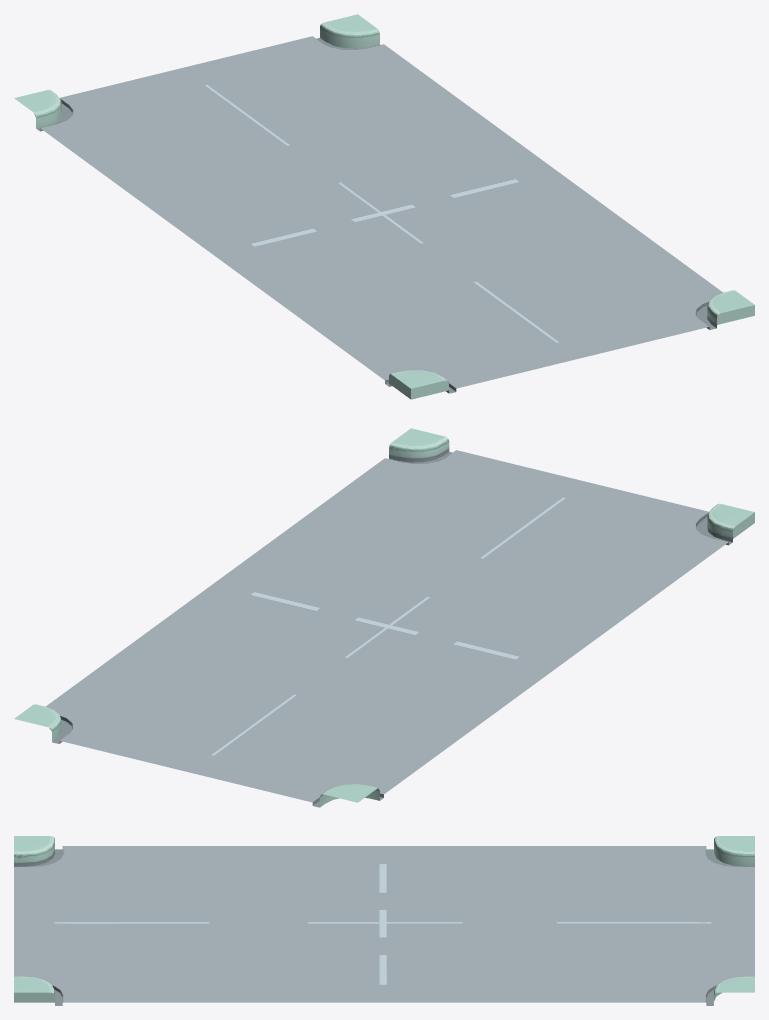
The model's file is 1X2Joint.fbx.
3 views of the same model, one above another, from view 1: azimuth 30°, elevation 25°; view 2: azimuth 150°, elevation 25°; view 3: azimuth 270°, elevation 25° (orthographic). The views are drawn at different scales.
Parts seen in each view (by area): view 1: pPlane23; view 2: pPlane23; view 3: pPlane23.
Boxes of the visible parts, x1=… form: pPlane23: x1=14, y1=14, x2=754, y2=399; pPlane23: x1=14, y1=428, x2=754, y2=807; pPlane23: x1=14, y1=836, x2=754, y2=1005.
Size of the model in its own units: 1 by 0.0395 by 2.
1 material, 1 textured.
